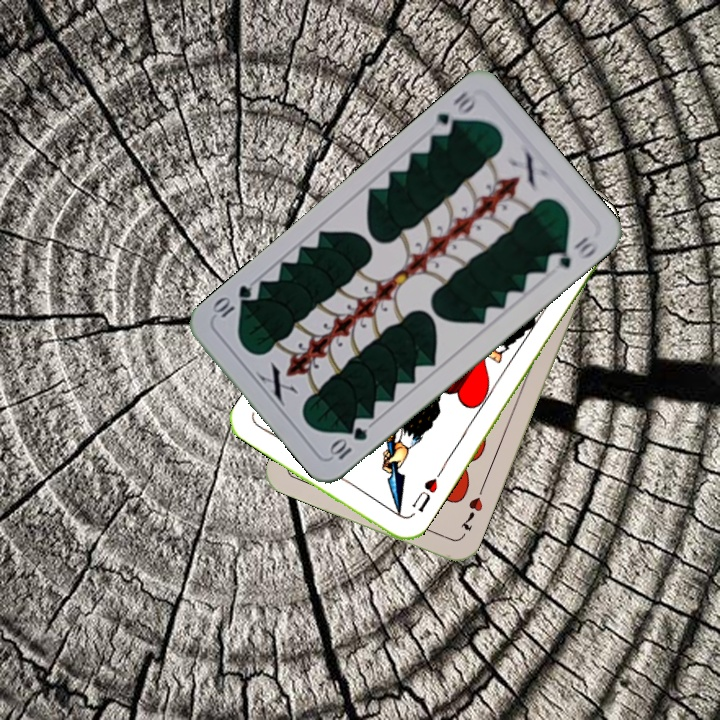G10: (427, 87, 480, 139), (326, 423, 370, 463)
H7: (456, 493, 486, 534)
HU: (408, 468, 444, 515)
